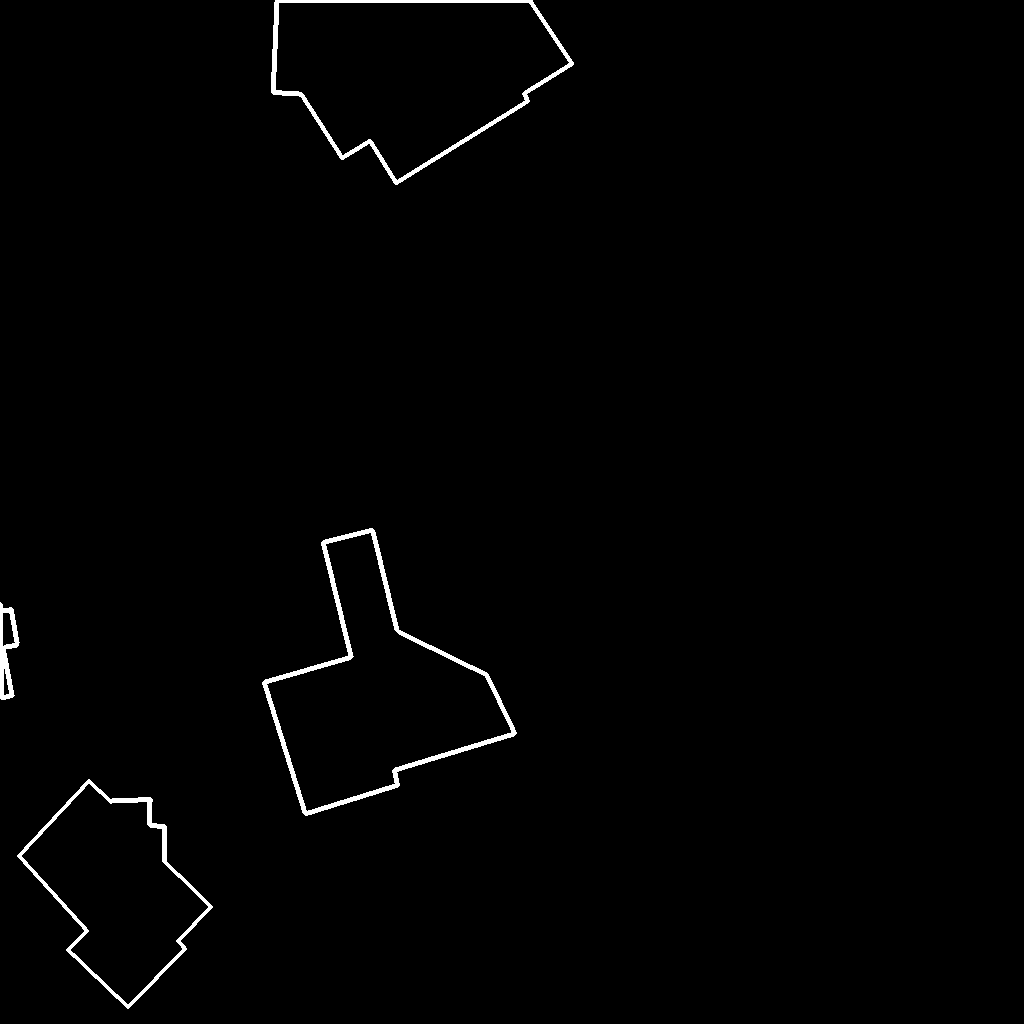building: (264, 530, 516, 815), (273, 0, 573, 184), (19, 781, 212, 1008), (0, 603, 18, 699)
